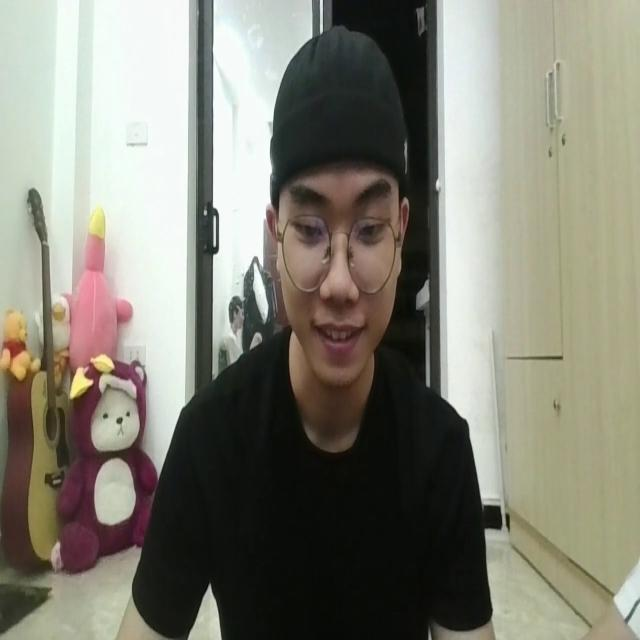student: (132, 18, 490, 640)
